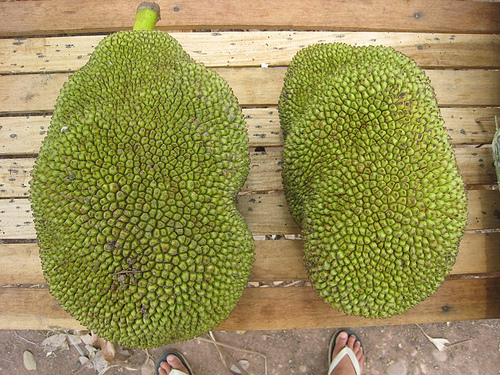jackfruit: (27, 0, 256, 351), (279, 42, 465, 321)
